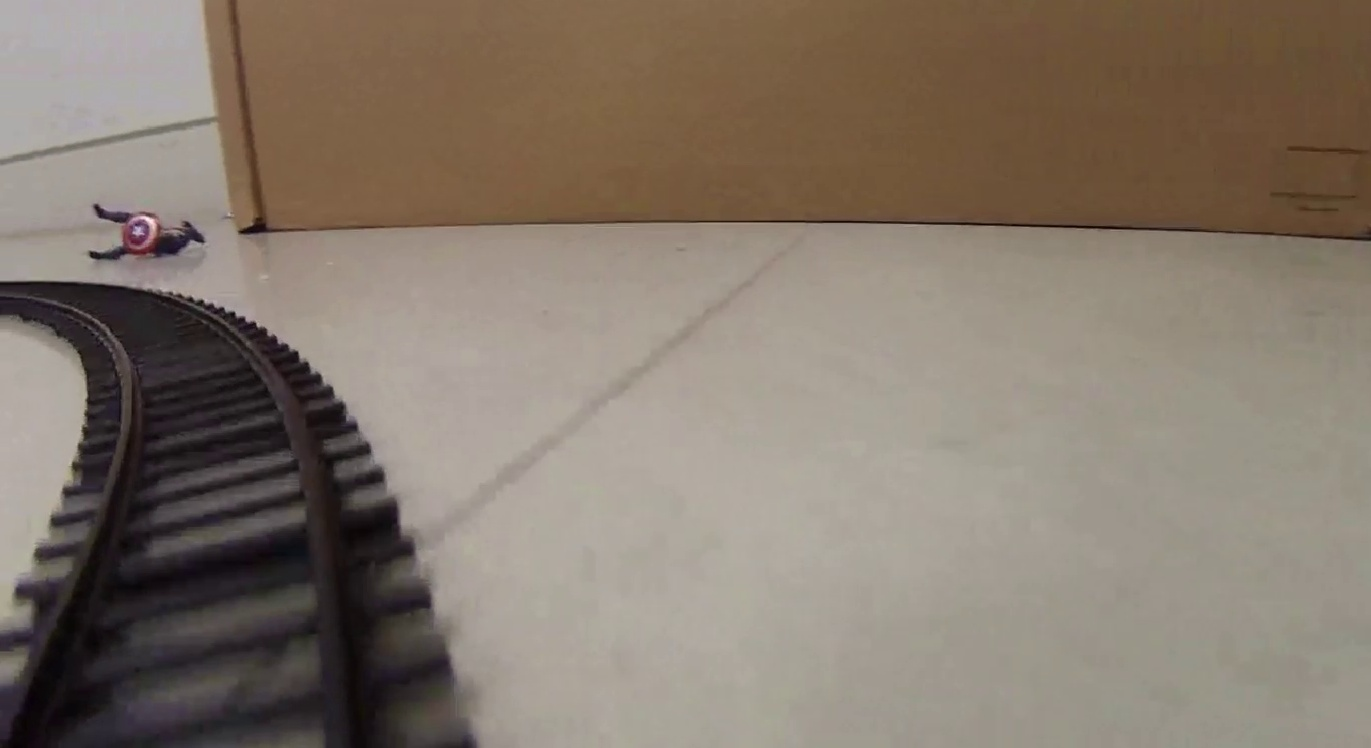people: (88, 201, 208, 264)
